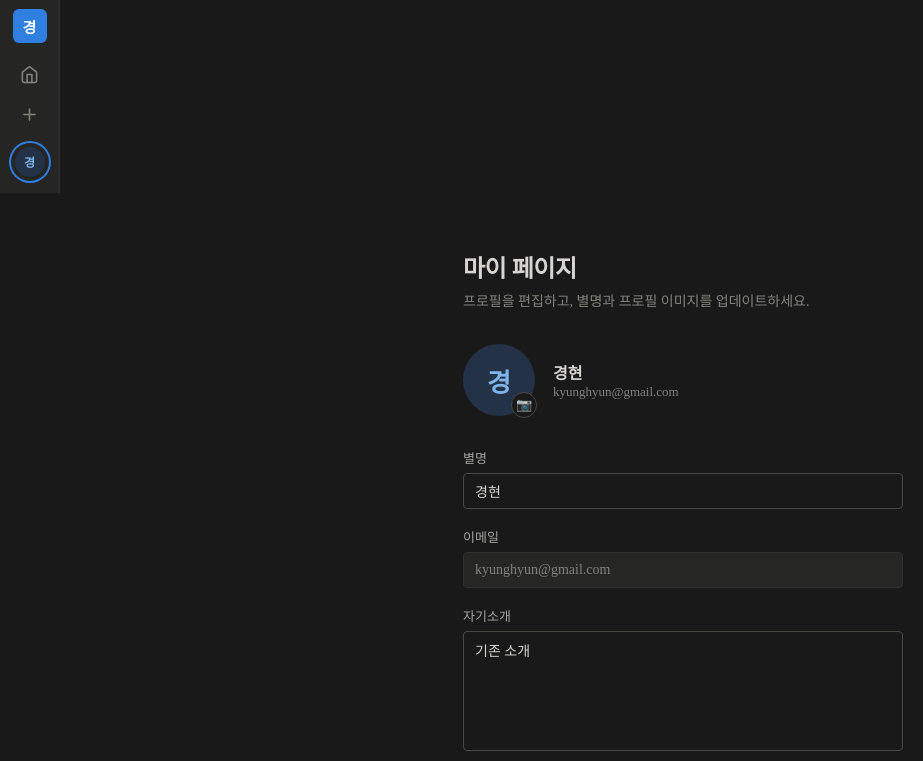
Test case: 마이페이지 자기소개 — 수정 (US2) › 내용을 모두 지우고 저장하면 null을 전송하고 미등록 상태로 돌아간다
Clear the text box with placeholder "자신을 소개하는 글을 남겨보세요". click: (683, 691)
box: [463,631,903,751]
(page scrolled)
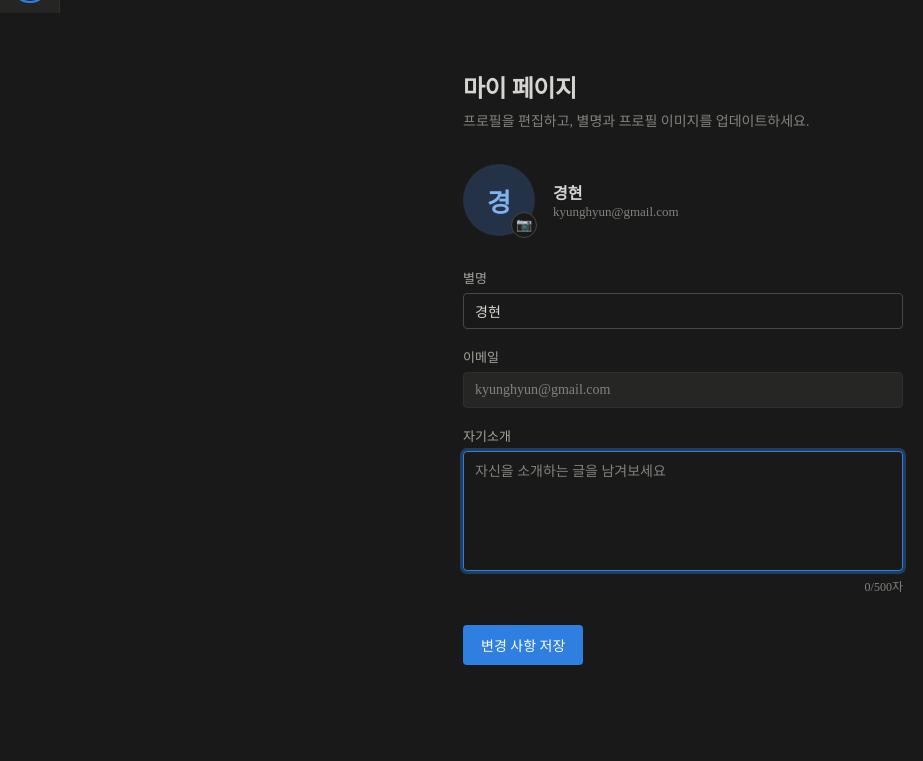
Click the button "변경 사항 저장". click: (523, 645)
box: [463,625,583,665]
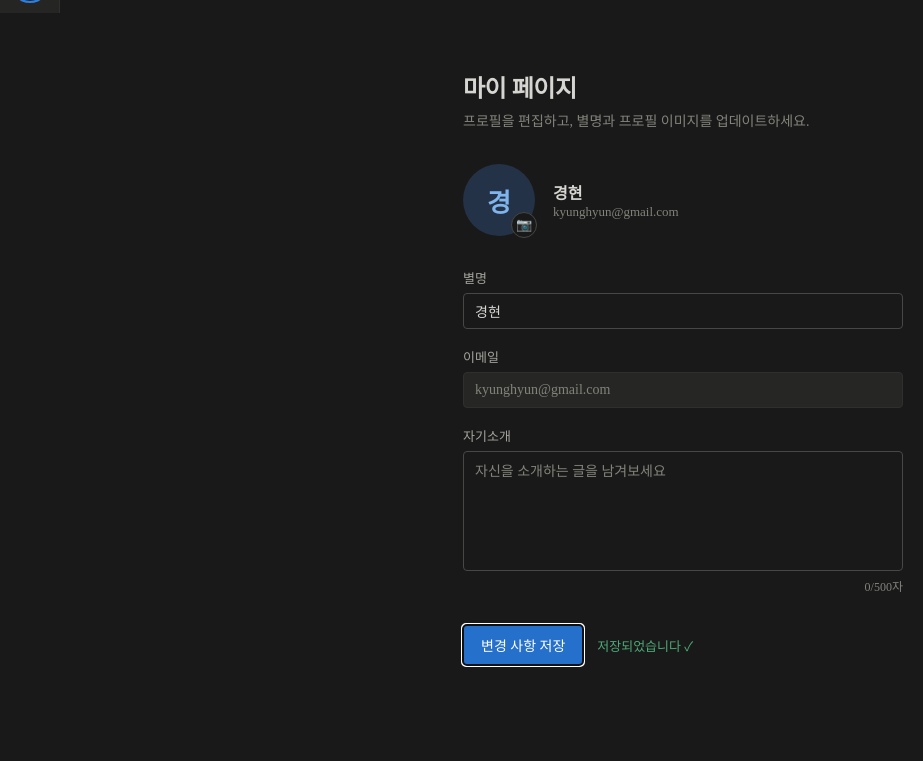
Result: the text "저장되었습니다 ✓" is shown at [597,636,693,654]
